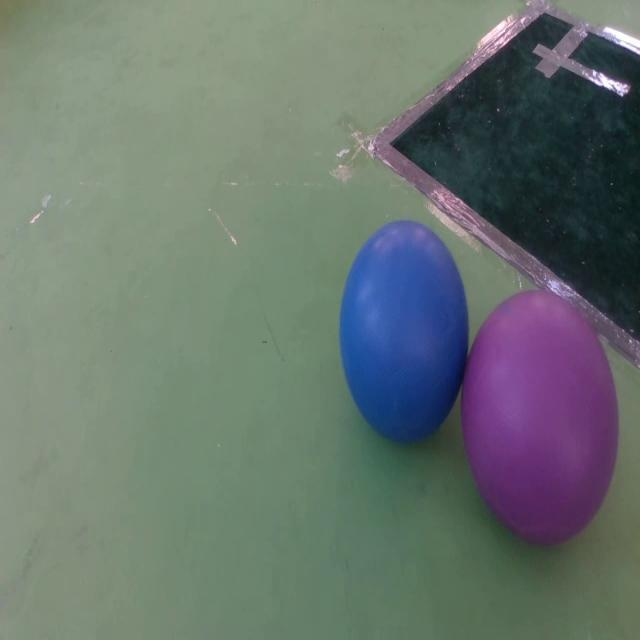blue: (341, 219, 469, 442)
invalid: (463, 283, 620, 545)
